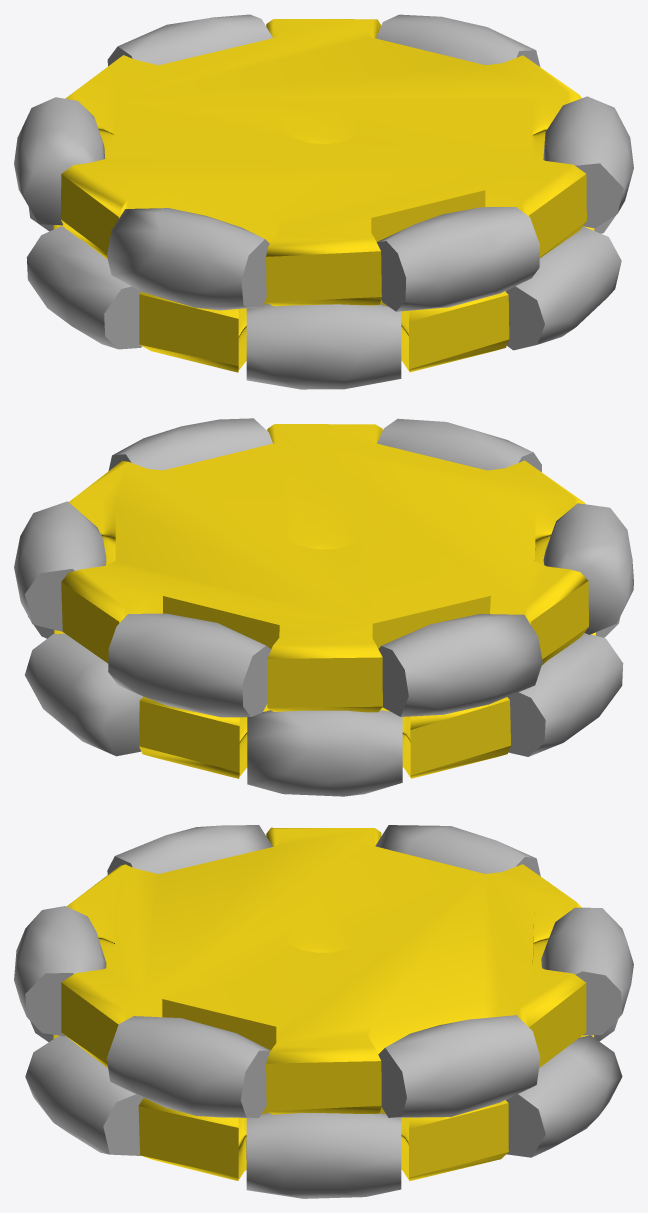
File: FourInOmni.fbx
The picture shows the model from 3 angles, top to bottom: view 1: azimuth 30°, elevation 25°; view 2: azimuth 150°, elevation 25°; view 3: azimuth 270°, elevation 25°; orthographic projection.
Parts seen in each view (by area): view 1: Part 7.001, Part 2.001, Part 1.001, Part 3.001, Part 7, Part 2, Part 4.001, Part 3, Part 6.001, Part 4, Part 5.001; view 2: Part 7.001, Part 5.001, Part 6.001, Part 1, Part 7, Part 6, Part 2, Part 4, Part 1.001, Part 3, Part 2.001; view 3: Part 7.001, Part 4, Part 3, Part 5, Part 7, Part 4.001, Part 6, Part 2.001, Part 5.001, Part 6.001, Part 1.001.
Part boxes in pixels (x1,y1,x2,y2): Part 7.001: (60, 19, 586, 306); Part 2.001: (377, 207, 539, 311); Part 1.001: (107, 208, 269, 310); Part 3.001: (246, 304, 401, 389); Part 7: (53, 225, 594, 372); Part 2: (26, 226, 141, 349); Part 4.001: (505, 226, 621, 350); Part 3: (543, 96, 633, 228); Part 6.001: (14, 97, 104, 225); Part 4: (376, 14, 540, 66); Part 5.001: (107, 14, 272, 66); Part 7.001: (61, 424, 588, 712); Part 5.001: (108, 613, 271, 717); Part 6.001: (378, 614, 542, 716); Part 1: (247, 710, 402, 796); Part 7: (54, 630, 596, 778); Part 6: (25, 633, 143, 756); Part 2: (507, 633, 623, 756); Part 4: (14, 501, 106, 631); Part 1.001: (543, 503, 633, 634); Part 3: (108, 418, 272, 470); Part 2.001: (377, 418, 541, 471); Part 7.001: (61, 827, 586, 1114); Part 4: (378, 1015, 540, 1117); Part 3: (107, 1016, 270, 1117); Part 5: (246, 1113, 401, 1198); Part 7: (53, 1034, 594, 1181); Part 4.001: (25, 1035, 143, 1155); Part 6: (506, 1035, 622, 1157); Part 2.001: (14, 906, 106, 1036); Part 5.001: (541, 907, 633, 1035); Part 6.001: (375, 825, 540, 876); Part 1.001: (107, 825, 272, 874).
Bounding box in the file's own units: 10.18 × 2.79 × 10.18.
